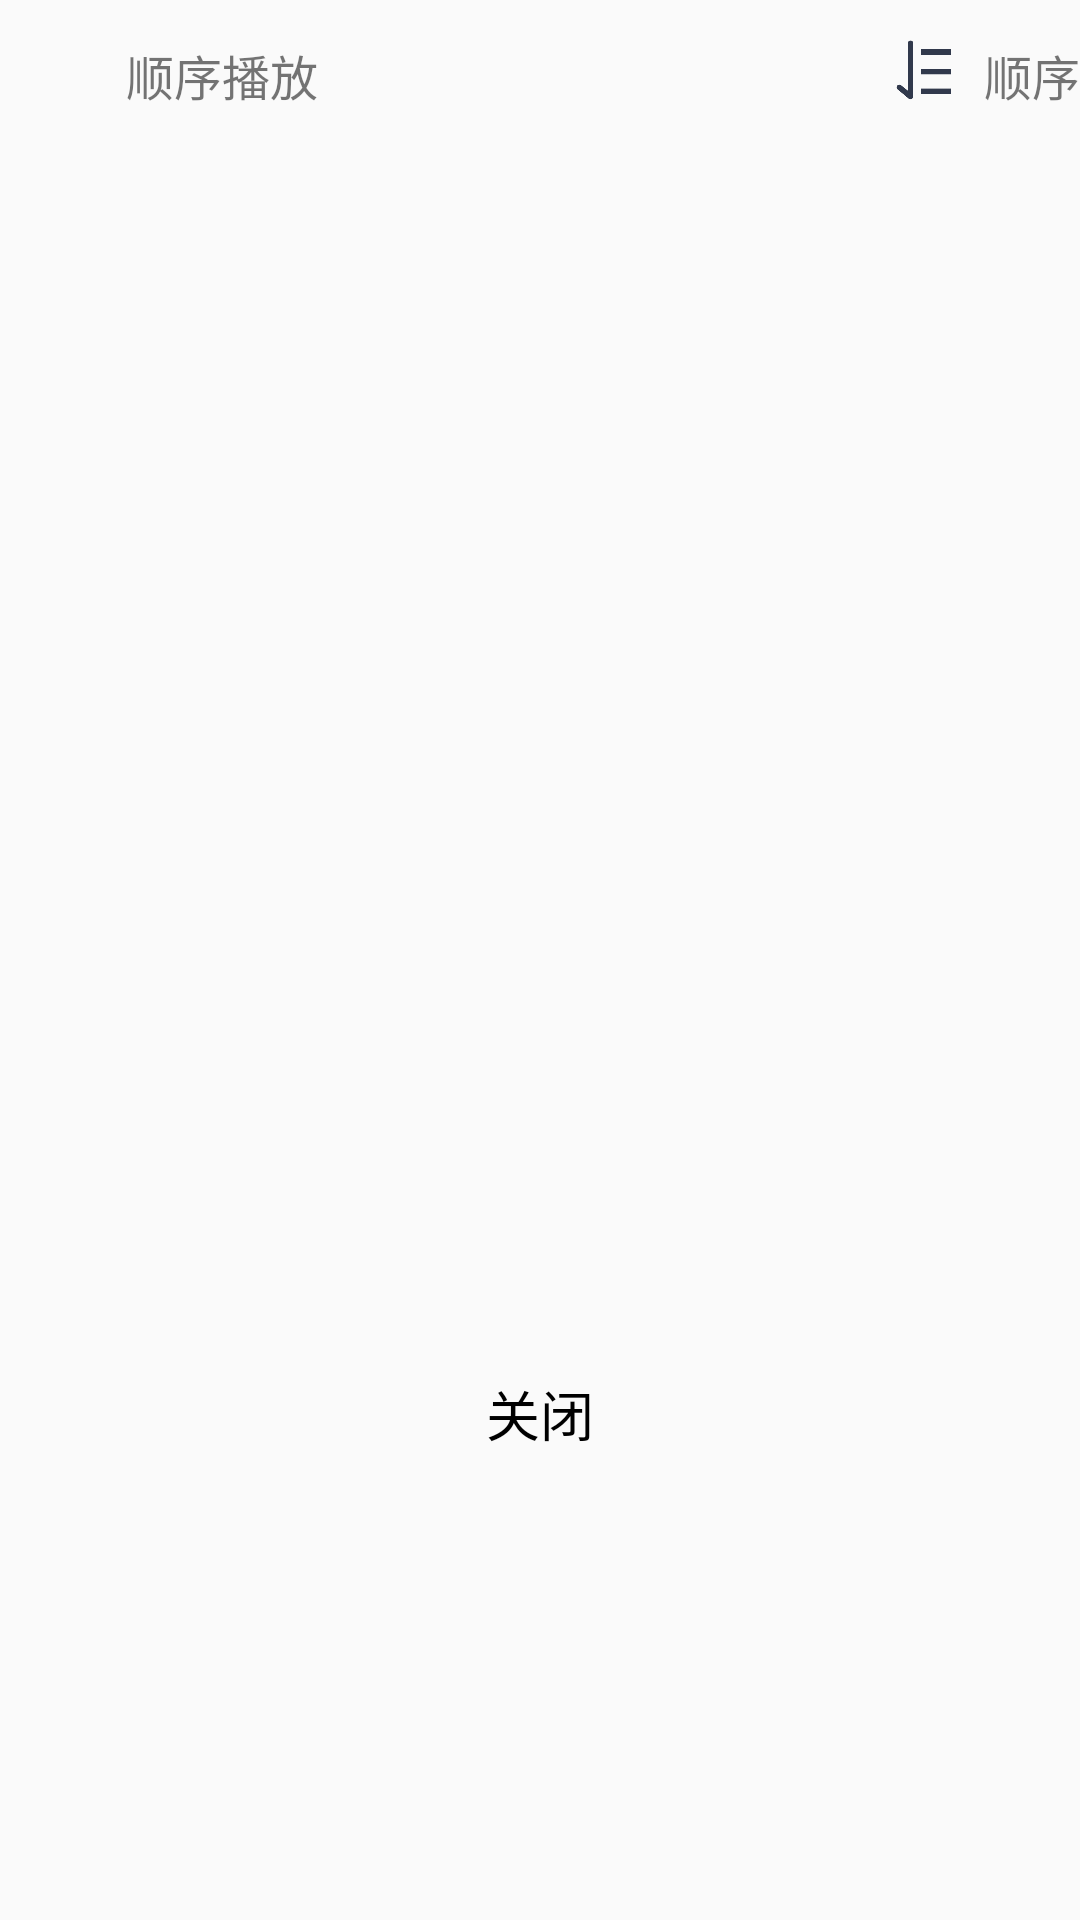

Icons on this 1080x1920 Android screen, each with its box as bbox(x1, y1, x2, y2):
desc: bbox(896, 40, 951, 99)
